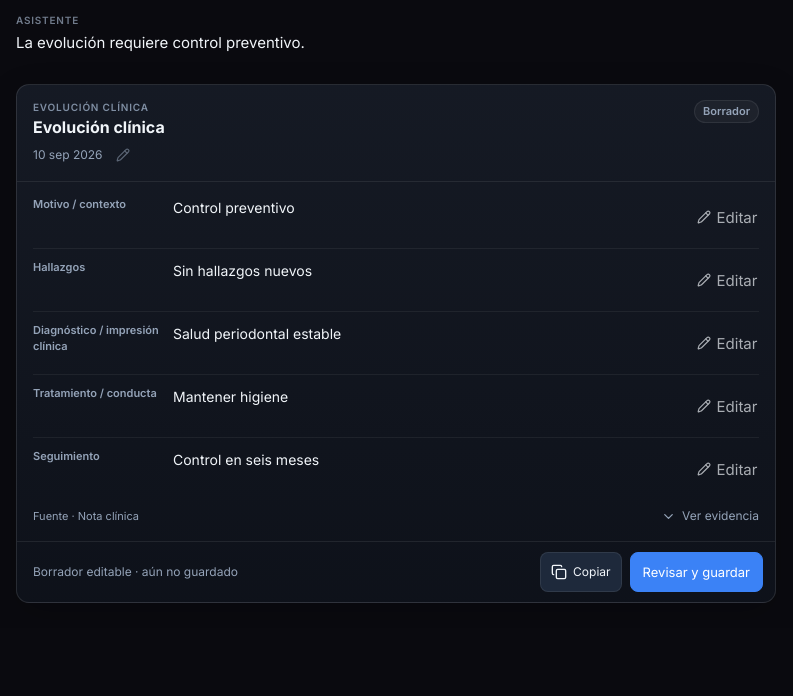
Test: ClinicalTranscript › keeps assistant prose beside one clinical artifact without terminal progress
Expected: the element "Asistente" shows "La evolución requiere control preventivo.", [16,33,305,52]
Click the button "Ver evidencia": (710, 517) [661,504,759,529]
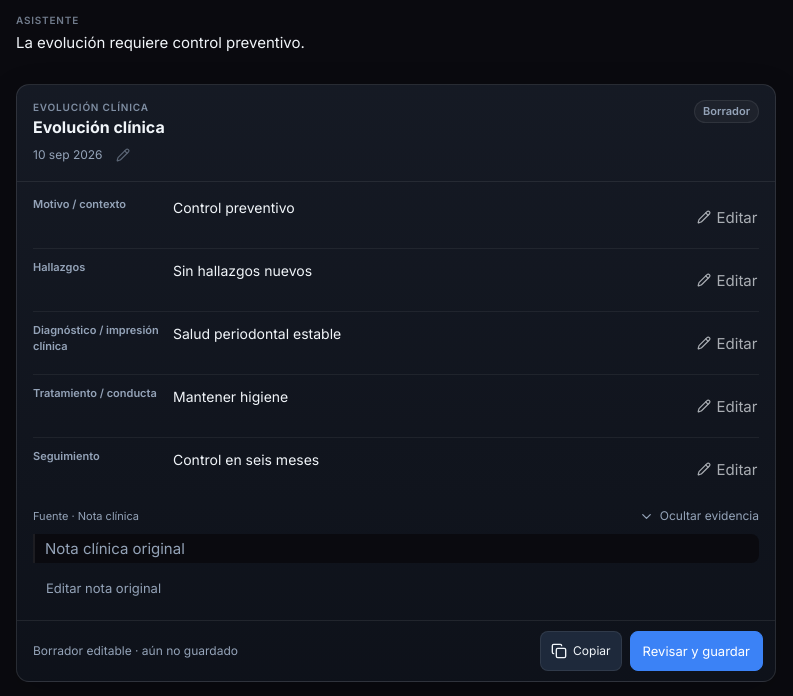
Expected: the text "Nota clínica original" is shown, [33,534,759,563]
